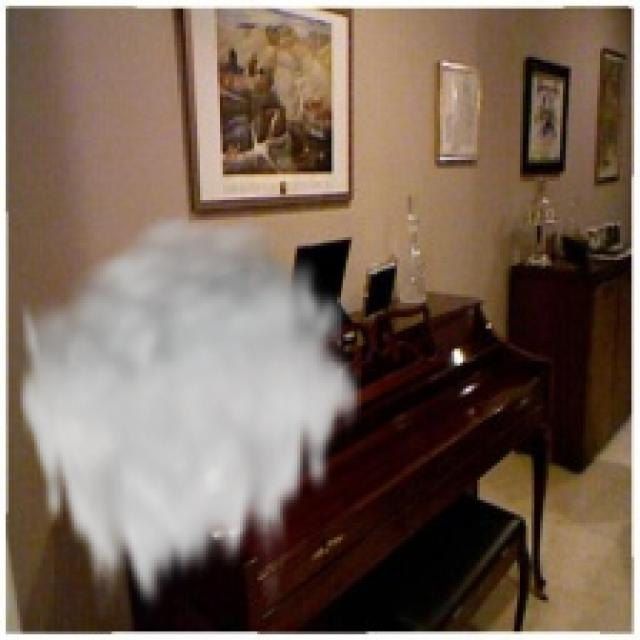smoke: (14, 206, 366, 620)
